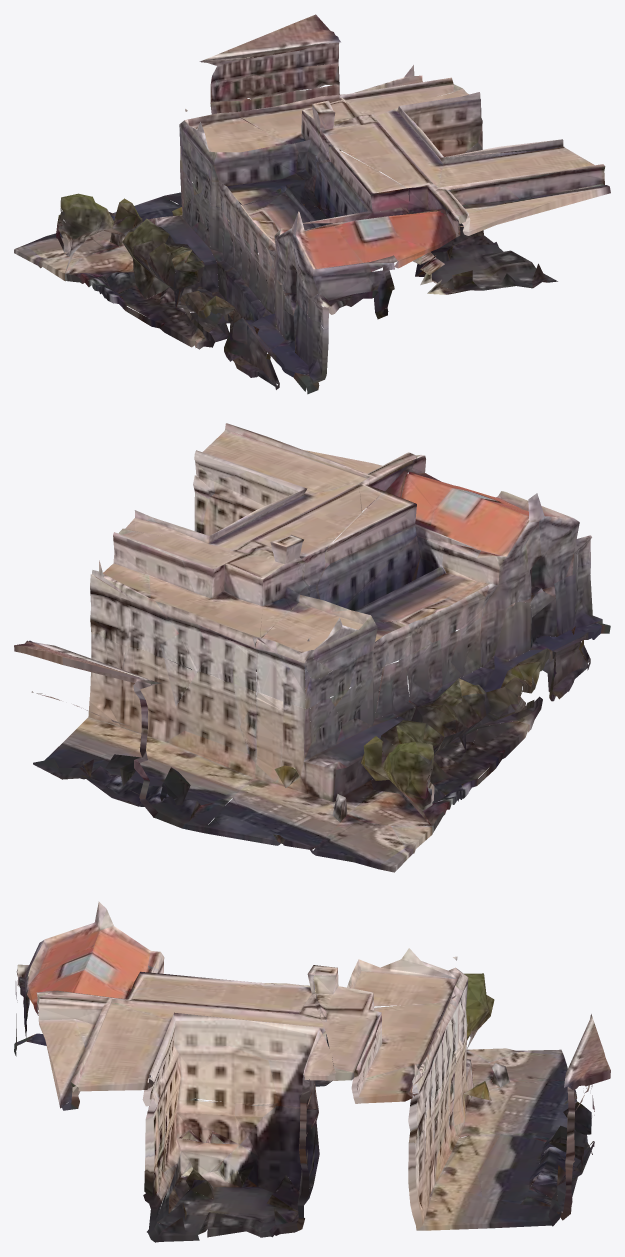
3 views of the same model, one above another, from view 1: azimuth 30°, elevation 25°; view 2: azimuth 150°, elevation 25°; view 3: azimuth 270°, elevation 25° (orthographic). The views are drawn at different scales.
Visible parts, largest first — view 1: Mesh_0; view 2: Mesh_0; view 3: Mesh_0.
Part boxes in pixels (bbox=[...]): Mesh_0: bbox=[14, 14, 610, 394]; Mesh_0: bbox=[14, 423, 610, 872]; Mesh_0: bbox=[14, 901, 610, 1242].
Size of the model in its own units: 66.59 by 29.86 by 82.59.
Materials: 2 (2 with a texture image).
